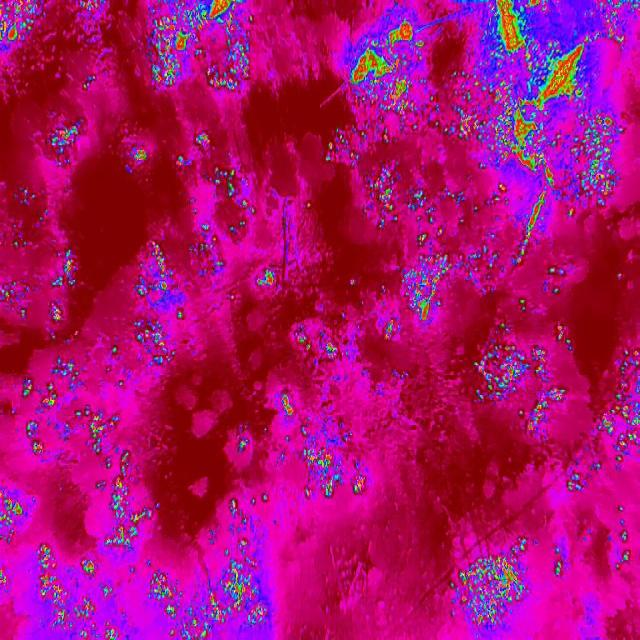fire: (327, 0, 640, 341), (0, 318, 270, 640), (122, 132, 300, 320), (472, 342, 640, 496), (278, 324, 372, 506), (1, 186, 90, 348), (134, 0, 265, 101), (448, 532, 562, 640), (45, 69, 100, 173), (0, 1, 43, 57), (603, 504, 636, 570), (73, 0, 102, 16)
